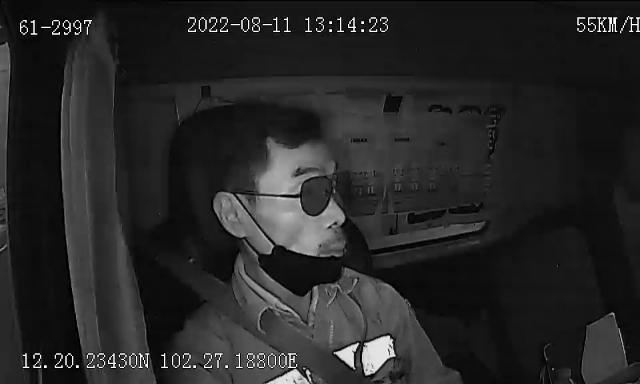SafeDriving: (418, 96, 460, 120)
Seatbelt: (182, 260, 366, 384)
